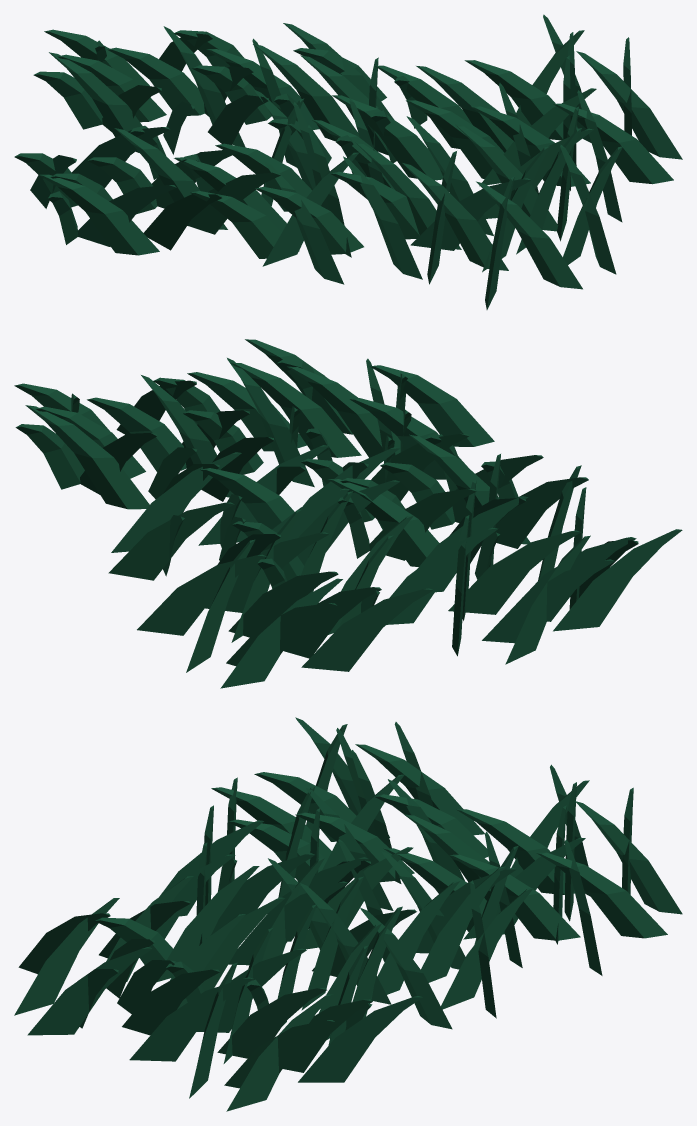
The model's file is GrassSmall.fbx.
3 views of the same model, one above another, from view 1: azimuth 30°, elevation 25°; view 2: azimuth 150°, elevation 25°; view 3: azimuth 270°, elevation 25° (orthographic). The views are drawn at different scales.
Parts seen in each view (by area): view 1: Plane.002; view 2: Plane.002; view 3: Plane.002.
Boxes of the visible parts, <box> form: Plane.002: <box>14,14,682,309</box>; Plane.002: <box>14,339,682,688</box>; Plane.002: <box>14,717,682,1111</box>.
Size of the model in its own units: 201 by 185 by 31.84.
